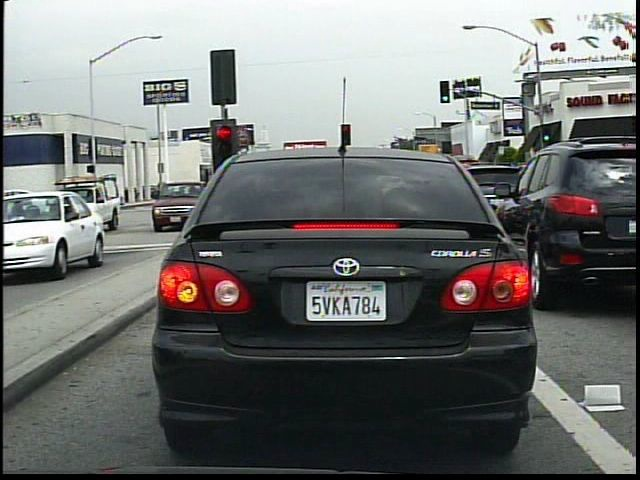person: (165, 171, 187, 200)
